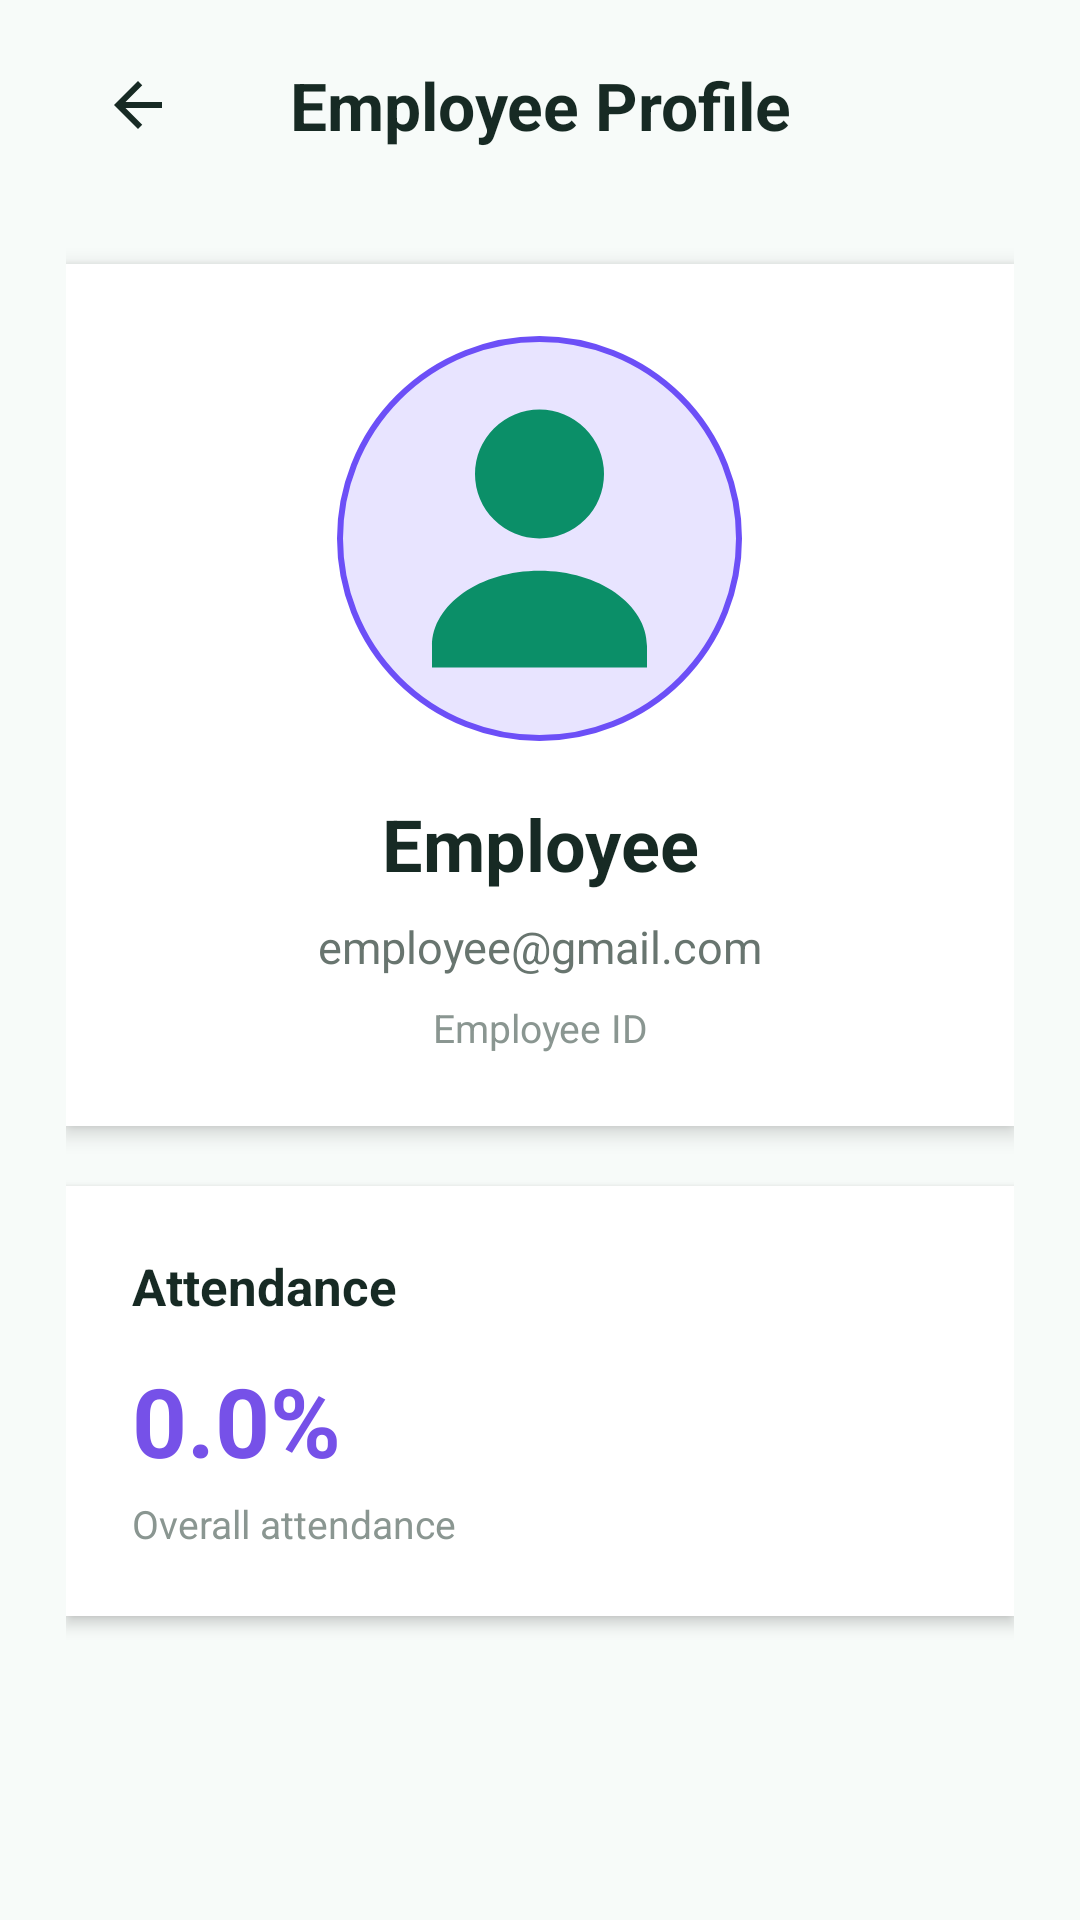

Screen size 1080×1920. Icon name, then its center in pixels as (x=x, y=y):
Back: (x=138, y=105)
